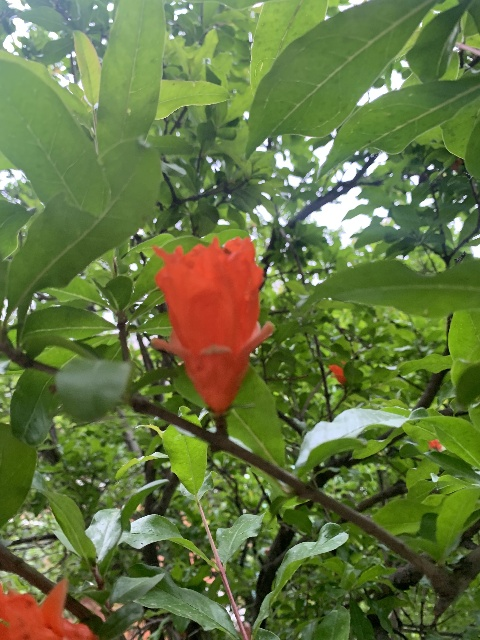flower: (150, 234, 273, 415), (0, 575, 102, 639), (328, 361, 346, 384), (427, 438, 442, 451)
